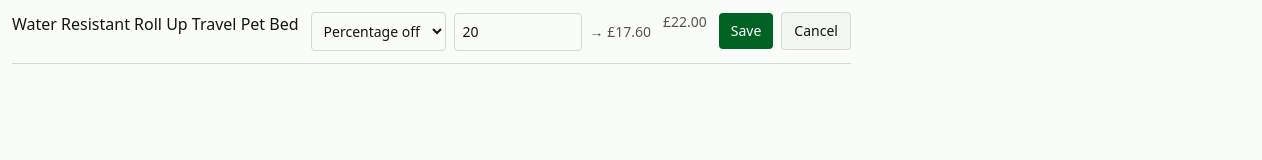
ItemRow — editing › blocks saving a fixed price that is not lower than the regular price, and says why
Select "Fixed price" in the dropdown named "Discount type for". click: {"x": 378, "y": 32}
box: [311, 12, 446, 51]
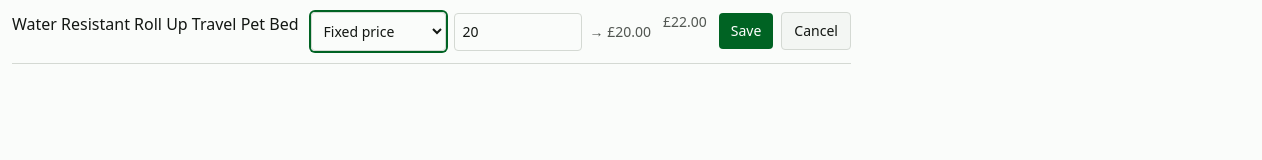
Replace the text in the number field named "Fixed price for" with "25". click: {"x": 518, "y": 32}
box: [454, 12, 582, 50]
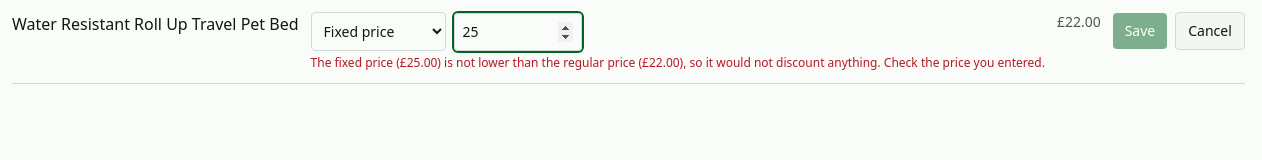
Check: the button "Save" is disabled, box [1113, 13, 1167, 49]
Check: the message shows "The fixed price (£25.00) is not lower than the regular price (£22.00)", box [311, 54, 1045, 71]
